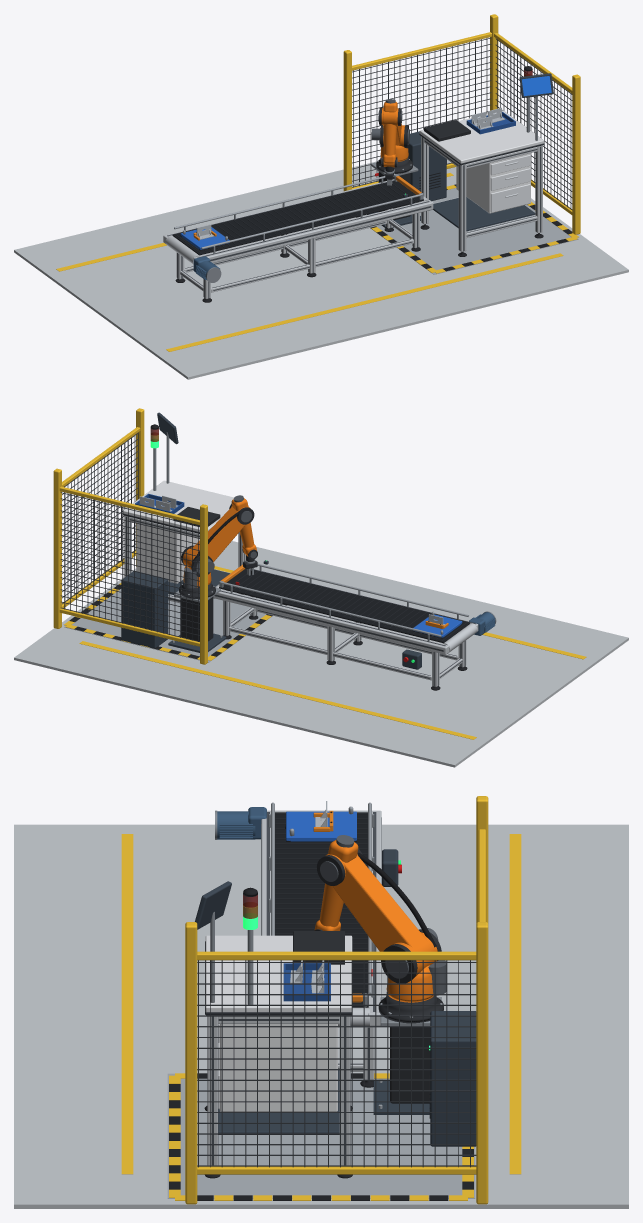
File: democell.glb
3 views of the same model, one above another, from view 1: azimuth 30°, elevation 25°; view 2: azimuth 150°, elevation 25°; view 3: azimuth 270°, elevation 25° (orthographic). The views are drawn at different scales.
Parts seen in each view (by area): view 1: Floor_Slab, Floor_StationZone, Conveyor_Belt, Station_FenceBack_Mesh, Station_FenceSide_Mesh, Bench_Top, Conveyor_FrameR_Profile, Floor_WalkwayLines, Station_FenceBack_Posts, Bench_DrawerFronts, Station_FenceSide_Posts, Bench_Shelf (+17 smaller); view 2: Floor_Slab, Station_FenceBack_Mesh, Conveyor_Belt, Station_FenceSide_Mesh, Controller_Cabinet, Floor_StationZone, Bench_Cabinet, Conveyor_FrameL_Profile, Station_FenceBack_Posts, Floor_WalkwayLines, Bench_Top, Station_FenceSide_Posts (+13 smaller); view 3: Floor_Slab, Station_FenceSide_Mesh, Floor_StationZone, Bench_Cabinet, Floor_WalkwayLines, Bench_Top, Controller_Cabinet, Station_FenceSide_Posts, Station_FenceSide_Rails, Conveyor_Belt, Station_FenceBack_Posts, Robot_UpperLink (+22 smaller).
Boxes of the visible parts, x1,y1,x2,y2 form: Floor_Slab: (14,159,628,379); Floor_StationZone: (363,188,578,274); Conveyor_Belt: (172,181,423,255); Station_FenceBack_Mesh: (352,38,491,187); Station_FenceSide_Mesh: (495,38,572,209); Bench_Top: (419,110,544,163); Conveyor_FrameR_Profile: (193,200,433,262); Floor_WalkwayLines: (56,173,563,351); Station_FenceBack_Posts: (343,14,498,191); Bench_DrawerFronts: (490,155,530,212); Station_FenceSide_Posts: (490,14,580,234); Bench_Shelf: (433,197,535,231); Floor_Slab: (14,541,628,767); Station_FenceBack_Mesh: (60,492,199,641); Conveyor_Belt: (219,569,470,642); Station_FenceSide_Mesh: (62,432,138,604); Controller_Cabinet: (121,571,168,648); Floor_StationZone: (64,589,280,662); Bench_Cabinet: (136,523,199,583); Conveyor_FrameL_Profile: (213,589,449,654); Station_FenceBack_Posts: (54,468,207,664); Floor_WalkwayLines: (79,566,586,739); Bench_Top: (123,480,233,531); Station_FenceSide_Posts: (53,408,144,628); Floor_Slab: (14,824,628,1208); Station_FenceSide_Mesh: (197,960,476,1167); Floor_StationZone: (167,1073,475,1198); Bench_Cabinet: (219,1024,337,1111); Floor_WalkwayLines: (121,834,521,1174); Bench_Top: (205,935,352,1012); Controller_Cabinet: (430,1011,476,1146); Station_FenceSide_Posts: (185,922,487,1204); Station_FenceSide_Rails: (197,951,476,1174); Conveyor_Belt: (275,812,368,1007); Station_FenceBack_Posts: (476,796,488,1204); Robot_UpperLink: (325,854,433,972).
Bounding box in the file's own units: 3.8 × 1.36 × 2.6.
